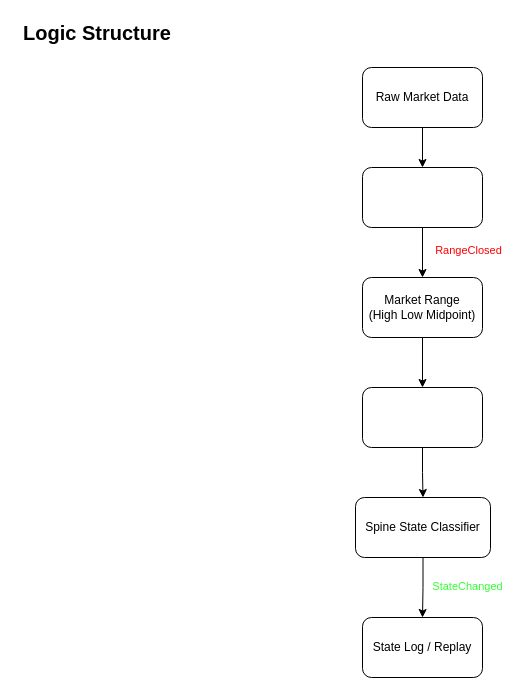
The diagram is 519 pixels wide and 695 high, and some of its shapes have lost their labels. Each missing label, with the centre of its shape:
"Range Extractor (Prev Day/Week)" belongs at point (422, 197).
"Spine Calculator (Distance)" belongs at point (422, 417).
